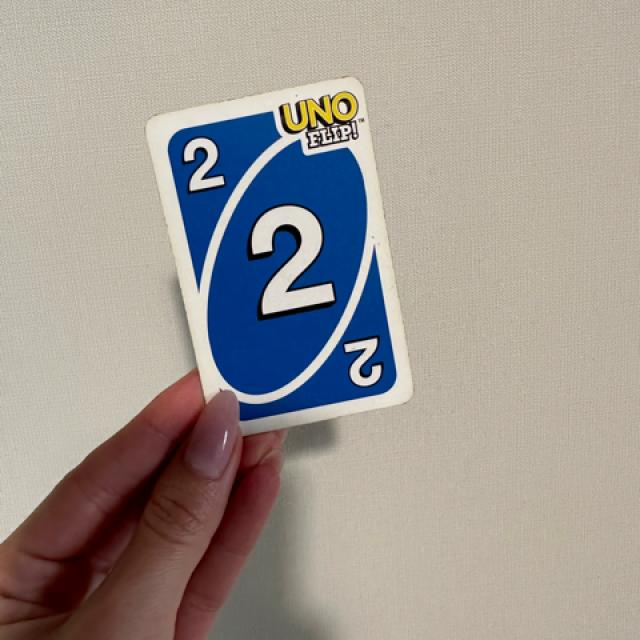lblue-2: (172, 120, 237, 203)
